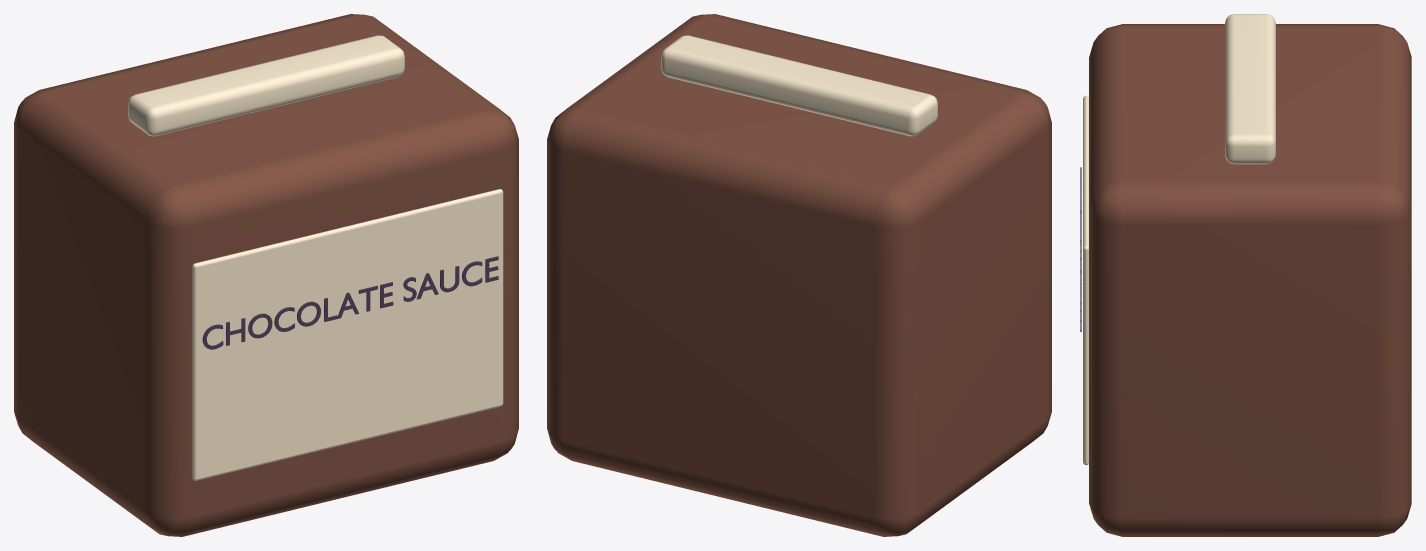
Rendered from Chocolate_sauce_refill.fbx.
3 views of the same model, side by side, from view 1: azimuth 30°, elevation 25°; view 2: azimuth 150°, elevation 25°; view 3: azimuth 270°, elevation 25° (orthographic).
Parts seen in each view (by area): view 1: Toon_Chocolate_sauce_refill Rounded refill package.001, Toon_Chocolate_sauce_refill Cream paper label.001, Toon_Chocolate_sauce_refill Folded seal.001, Package contents.008; view 2: Toon_Chocolate_sauce_refill Rounded refill package.001, Toon_Chocolate_sauce_refill Folded seal.001; view 3: Toon_Chocolate_sauce_refill Rounded refill package.001, Toon_Chocolate_sauce_refill Folded seal.001, Toon_Chocolate_sauce_refill Cream paper label.001.
Boxes of the visible parts, left/top/right/bottom form: Toon_Chocolate_sauce_refill Rounded refill package.001: left=14, top=14, right=518, bottom=536; Toon_Chocolate_sauce_refill Cream paper label.001: left=192, top=189, right=503, bottom=480; Toon_Chocolate_sauce_refill Folded seal.001: left=128, top=35, right=404, bottom=136; Package contents.008: left=202, top=256, right=498, bottom=349; Toon_Chocolate_sauce_refill Rounded refill package.001: left=547, top=14, right=1051, bottom=536; Toon_Chocolate_sauce_refill Folded seal.001: left=661, top=35, right=937, bottom=136; Toon_Chocolate_sauce_refill Rounded refill package.001: left=1089, top=24, right=1411, bottom=536; Toon_Chocolate_sauce_refill Folded seal.001: left=1225, top=14, right=1275, bottom=164; Toon_Chocolate_sauce_refill Cream paper label.001: left=1083, top=95, right=1088, bottom=465.
Bounding box in the file's own units: 32 × 31.4 × 24.66.
